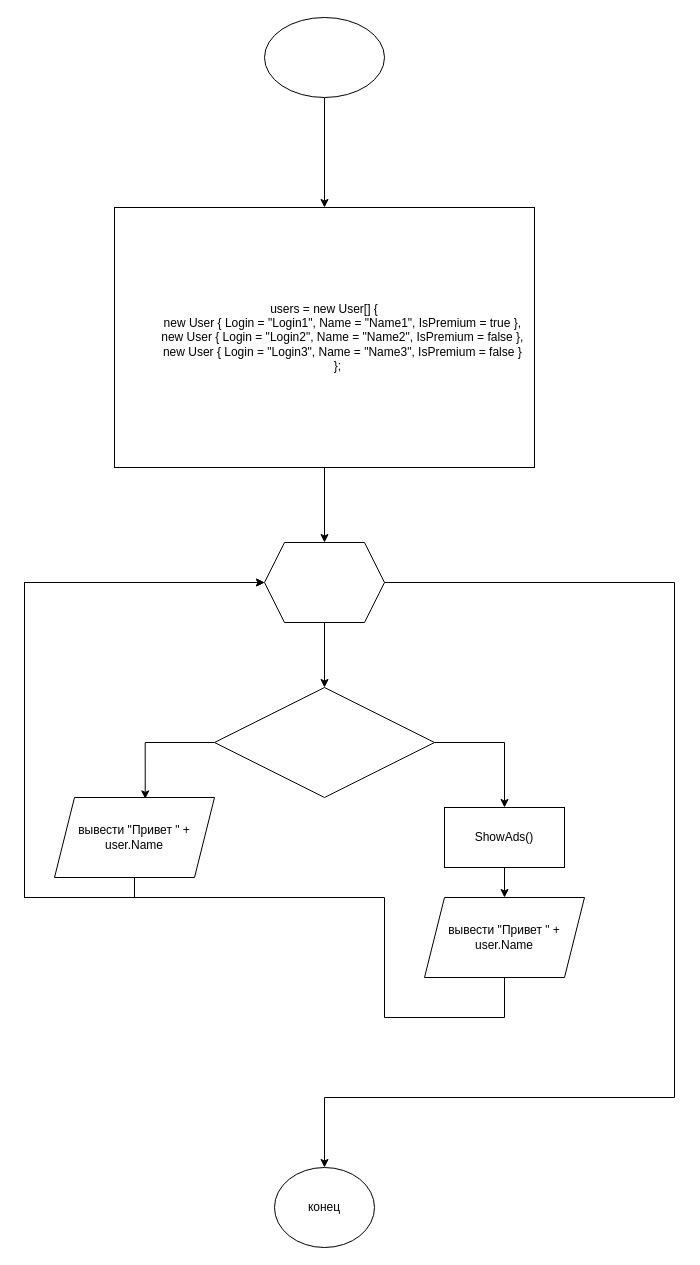
Image size: 700x1265. Some labels were removed from this diagram. The box of each missing label's shape, as (x1, y1, x2, y2) in pixels:
foreach var user in users: (264, 542, 384, 622)
user.IsPremium: (214, 686, 434, 798)
Начало: (264, 16, 384, 98)
